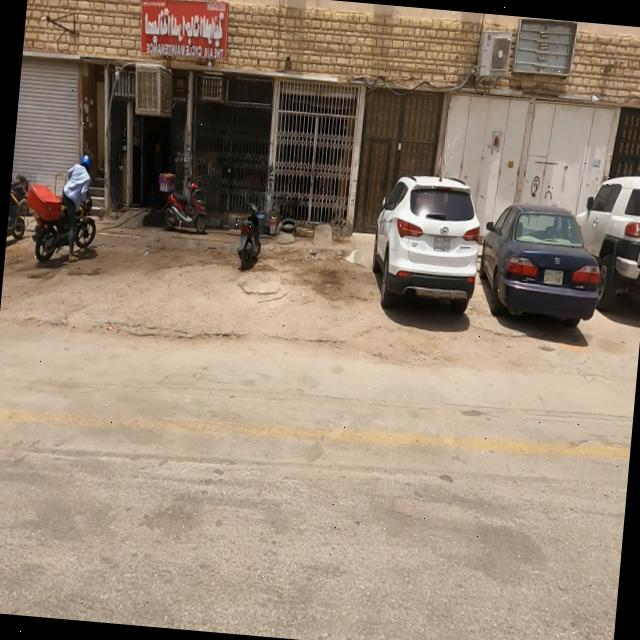Graffiti: (529, 172, 542, 198), (542, 183, 557, 203)
